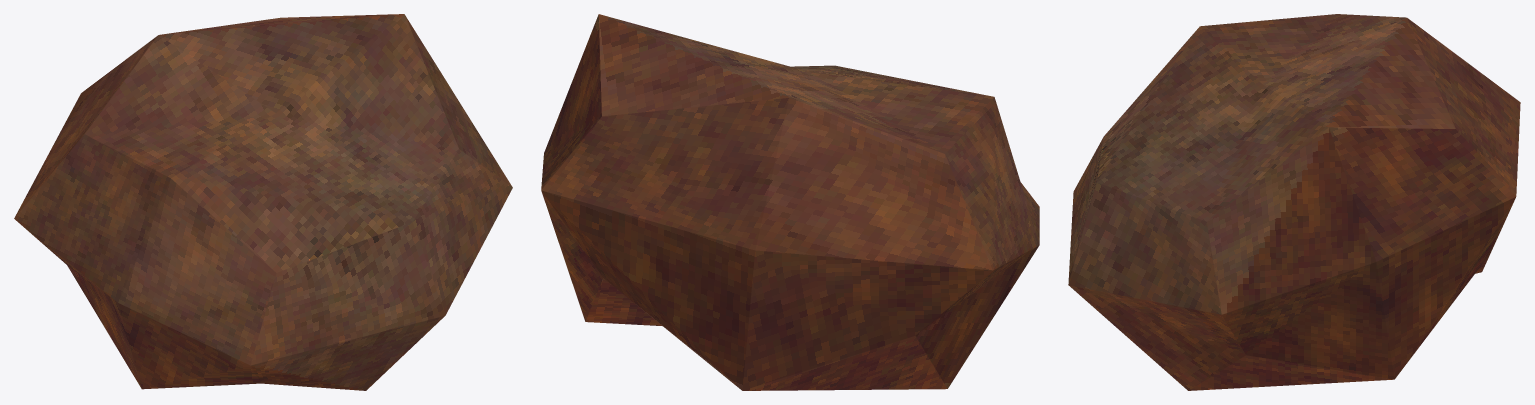
File: rock_05.glb
3 views of the same model, side by side, from view 1: azimuth 30°, elevation 25°; view 2: azimuth 150°, elevation 25°; view 3: azimuth 270°, elevation 25° (orthographic). The views are drawn at different scales.
Parts seen in each view (by area): view 1: ROCK_05-convex; view 2: ROCK_05-convex; view 3: ROCK_05-convex.
Part boxes in pixels (box(x1,y1,x2,y2)): ROCK_05-convex: box(14, 14, 512, 390); ROCK_05-convex: box(541, 14, 1039, 390); ROCK_05-convex: box(1068, 14, 1520, 390).
Size of the model in its own units: 2.75 by 1.87 by 2.39.
1 material, 1 textured.
